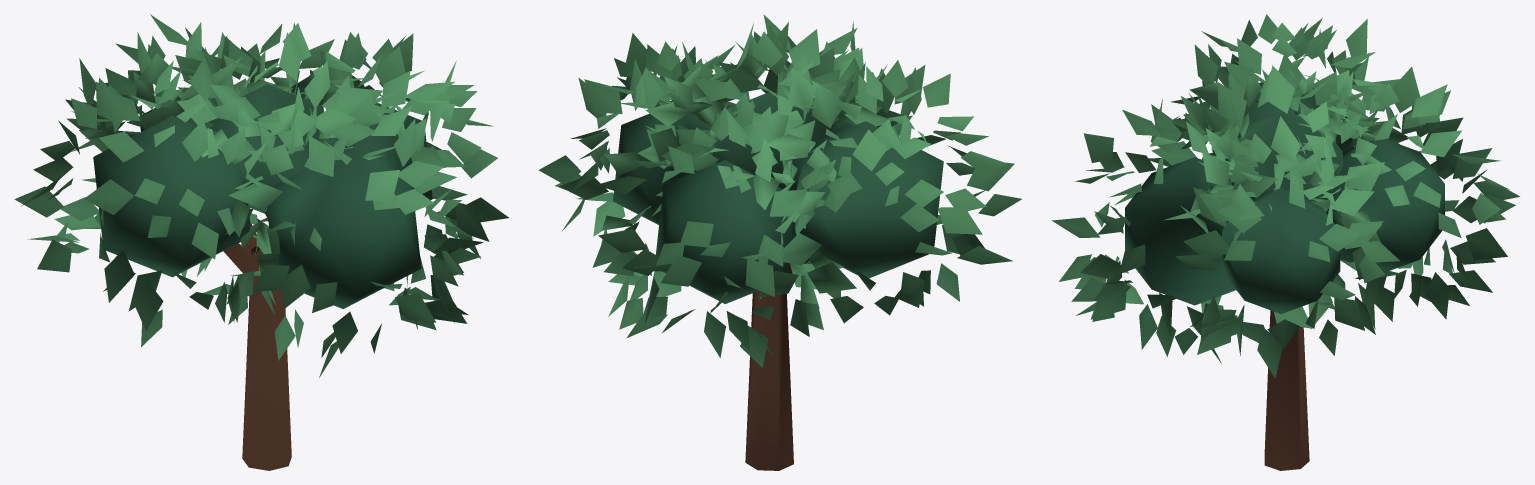
File: leafy-broadleaf.glb
3 views of the same model, side by side, from view 1: azimuth 30°, elevation 25°; view 2: azimuth 150°, elevation 25°; view 3: azimuth 270°, elevation 25° (orthographic). The views are drawn at different scales.
Parts seen in each view (by area): view 1: leafy-broadleaf; view 2: leafy-broadleaf; view 3: leafy-broadleaf.
Part boxes in pixels (x1=…): leafy-broadleaf: x1=14, y1=14, x2=508, y2=470; leafy-broadleaf: x1=538, y1=14, x2=1021, y2=470; leafy-broadleaf: x1=1052, y1=14, x2=1519, y2=470.
Bounding box in the file's own units: 0.8073 × 0.76 × 0.7948.
